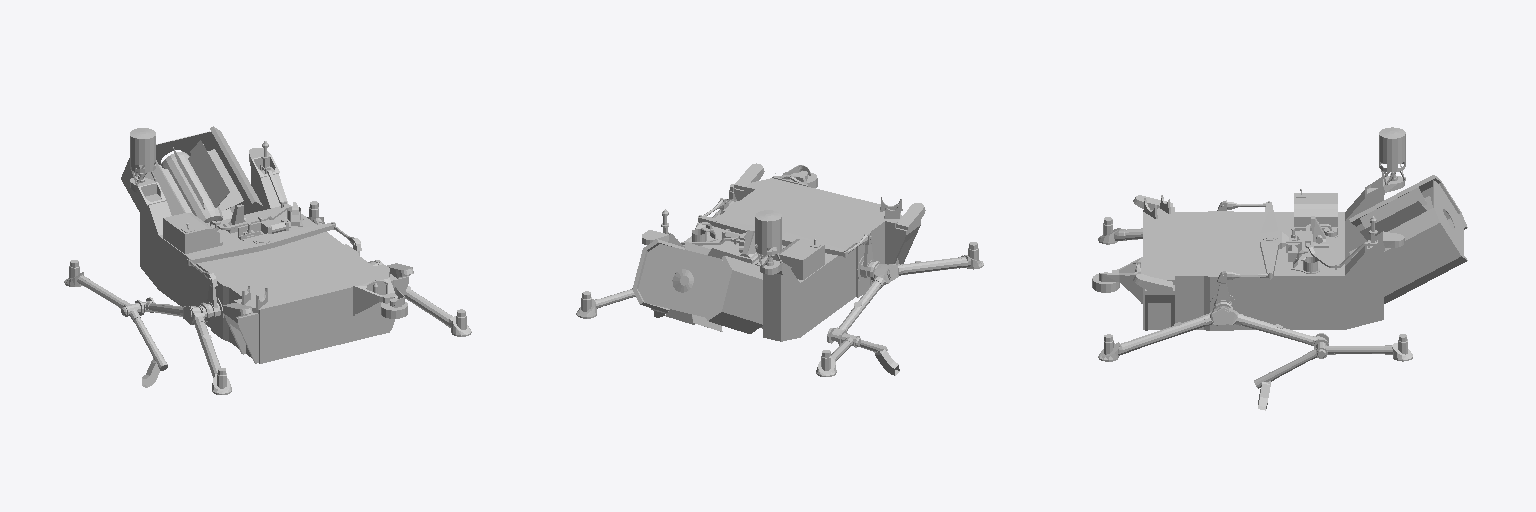
Rendered from chassis.obj.
The picture shows the model from 3 angles: view 1: azimuth 30°, elevation 25°; view 2: azimuth 150°, elevation 25°; view 3: azimuth 270°, elevation 25°; orthographic projection.
Visible parts, largest first — view 1: Chassis_Mesh.010, body_Mesh.345, RTG_Mesh.003, radiators_Mesh.012, suspension_arm_B2_R_Cylinder.006, suspension_xmember_Cylinder.001, antenna_UHF_Mesh.000, suspension_arm_F_R_Cylinder.009, suspension_arm_F_L_Cylinder.013; view 2: Chassis_Mesh.010, body_Mesh.345, radiators_Mesh.012, suspension_arm_B2_R_Cylinder.006, antenna_UHF_Mesh.000, RTG_Mesh.003, suspension_arm_F_R_Cylinder.009, suspension_arm_B_R_Cylinder.008, suspension_xmember_Cylinder.001, suspension_arm_B2_L_Cylinder.022; view 3: Chassis_Mesh.010, radiators_Mesh.012, body_Mesh.345, suspension_arm_B2_L_Cylinder.022, RTG_Mesh.003, suspension_arm_F_L_Cylinder.013, antenna_UHF_Mesh.000, suspension_xmember_Cylinder.001, suspension_arm_B_L_Cylinder.019, suspension_arm_F_R_Cylinder.009.
Boxes of the visible parts, x1=… form: Chassis_Mesh.010: x1=130, y1=148, x2=413, y2=363; body_Mesh.345: x1=136, y1=131, x2=404, y2=315; RTG_Mesh.003: x1=159, y1=140, x2=243, y2=222; radiators_Mesh.012: x1=121, y1=126, x2=262, y2=215; suspension_arm_B2_R_Cylinder.006: x1=64, y1=260, x2=167, y2=387; suspension_xmember_Cylinder.001: x1=187, y1=222, x2=335, y2=265; antenna_UHF_Mesh.000: x1=130, y1=128, x2=155, y2=185; suspension_arm_F_R_Cylinder.009: x1=184, y1=306, x2=231, y2=394; suspension_arm_F_L_Cylinder.013: x1=377, y1=260, x2=471, y2=336; Chassis_Mesh.010: x1=642, y1=163, x2=925, y2=341; body_Mesh.345: x1=638, y1=165, x2=902, y2=317; radiators_Mesh.012: x1=632, y1=239, x2=762, y2=333; suspension_arm_B2_R_Cylinder.006: x1=816, y1=328, x2=899, y2=376; antenna_UHF_Mesh.000: x1=755, y1=210, x2=781, y2=267; RTG_Mesh.003: x1=665, y1=241, x2=741, y2=331; suspension_arm_F_R_Cylinder.009: x1=878, y1=242, x2=983, y2=280; suspension_arm_B_R_Cylinder.008: x1=831, y1=264, x2=890, y2=341; suspension_xmember_Cylinder.001: x1=698, y1=215, x2=847, y2=257; suspension_arm_B2_L_Cylinder.022: x1=576, y1=288, x2=664, y2=318; Chassis_Mesh.010: x1=1133, y1=176, x2=1404, y2=330; radiators_Mesh.012: x1=1349, y1=175, x2=1467, y2=303; body_Mesh.345: x1=1099, y1=172, x2=1463, y2=303; suspension_arm_B2_L_Cylinder.022: x1=1254, y1=333, x2=1412, y2=410; RTG_Mesh.003: x1=1360, y1=187, x2=1448, y2=240; suspension_arm_F_L_Cylinder.013: x1=1098, y1=306, x2=1231, y2=361; antenna_UHF_Mesh.000: x1=1379, y1=127, x2=1405, y2=185; suspension_xmember_Cylinder.001: x1=1260, y1=201, x2=1290, y2=279; suspension_arm_B_L_Cylinder.019: x1=1217, y1=306, x2=1325, y2=345; suspension_arm_F_R_Cylinder.009: x1=1098, y1=217, x2=1142, y2=244.
Bounding box in the file's own units: 2.28 × 1.62 × 2.88.